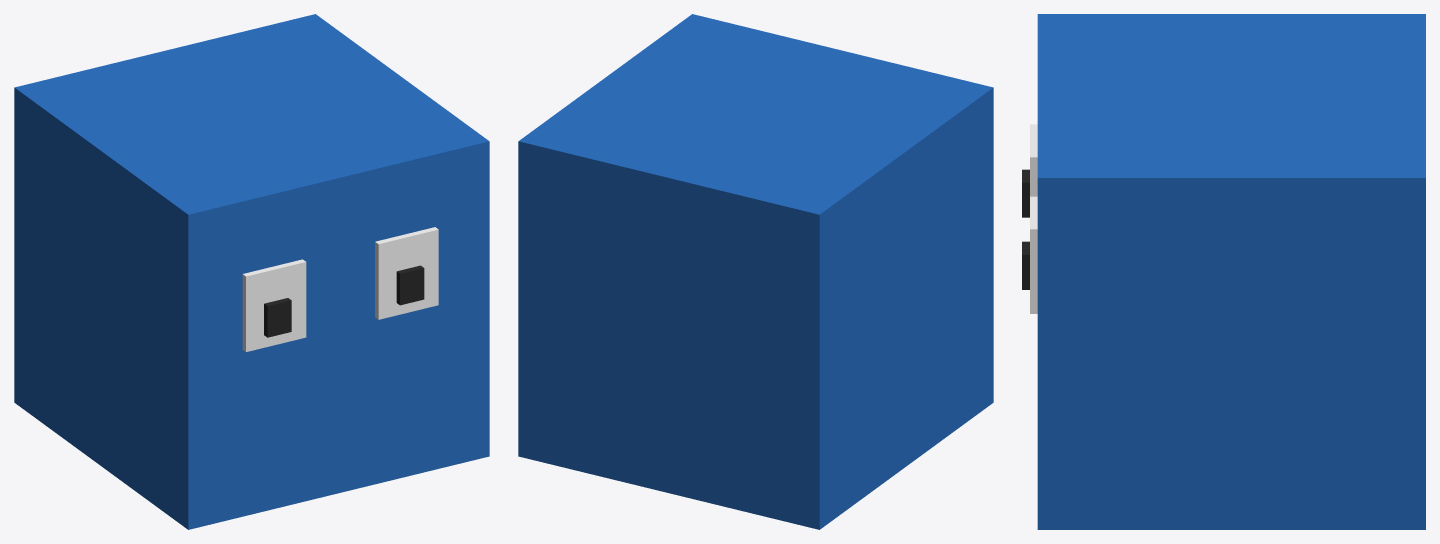
Rendered from lingo-2022.glb.
3 renders of one model, left to right at view 1: azimuth 30°, elevation 25°; view 2: azimuth 150°, elevation 25°; view 3: azimuth 270°, elevation 25°, orthographic. The views are drawn at different scales.
Parts seen in each view (by area): view 1: Quill; view 2: Quill; view 3: Quill.
Part boxes in pixels (bbox=[...]): Quill: bbox=[14, 14, 489, 529]; Quill: bbox=[518, 14, 993, 529]; Quill: bbox=[1022, 14, 1425, 529].
Size of the model in its own units: 1 by 1 by 1.04.
